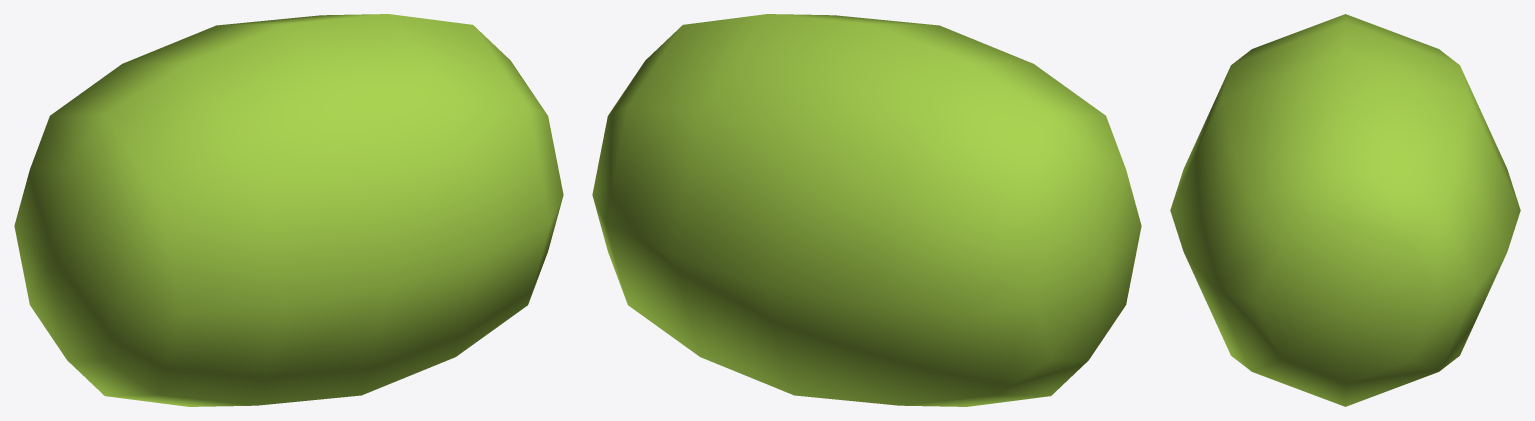
File: melon.fbx
The picture shows the model from 3 angles, left to right: view 1: azimuth 30°, elevation 25°; view 2: azimuth 150°, elevation 25°; view 3: azimuth 270°, elevation 25°; orthographic projection. The views are drawn at different scales.
Parts seen in each view (by area): view 1: mango; view 2: mango; view 3: mango.
Boxes of the visible parts, x1,y1,x2,y2 form: mango: (14, 14, 563, 406); mango: (592, 14, 1141, 406); mango: (1170, 14, 1520, 406).
Size of the model in its own units: 20.3 by 15.06 by 15.06.
